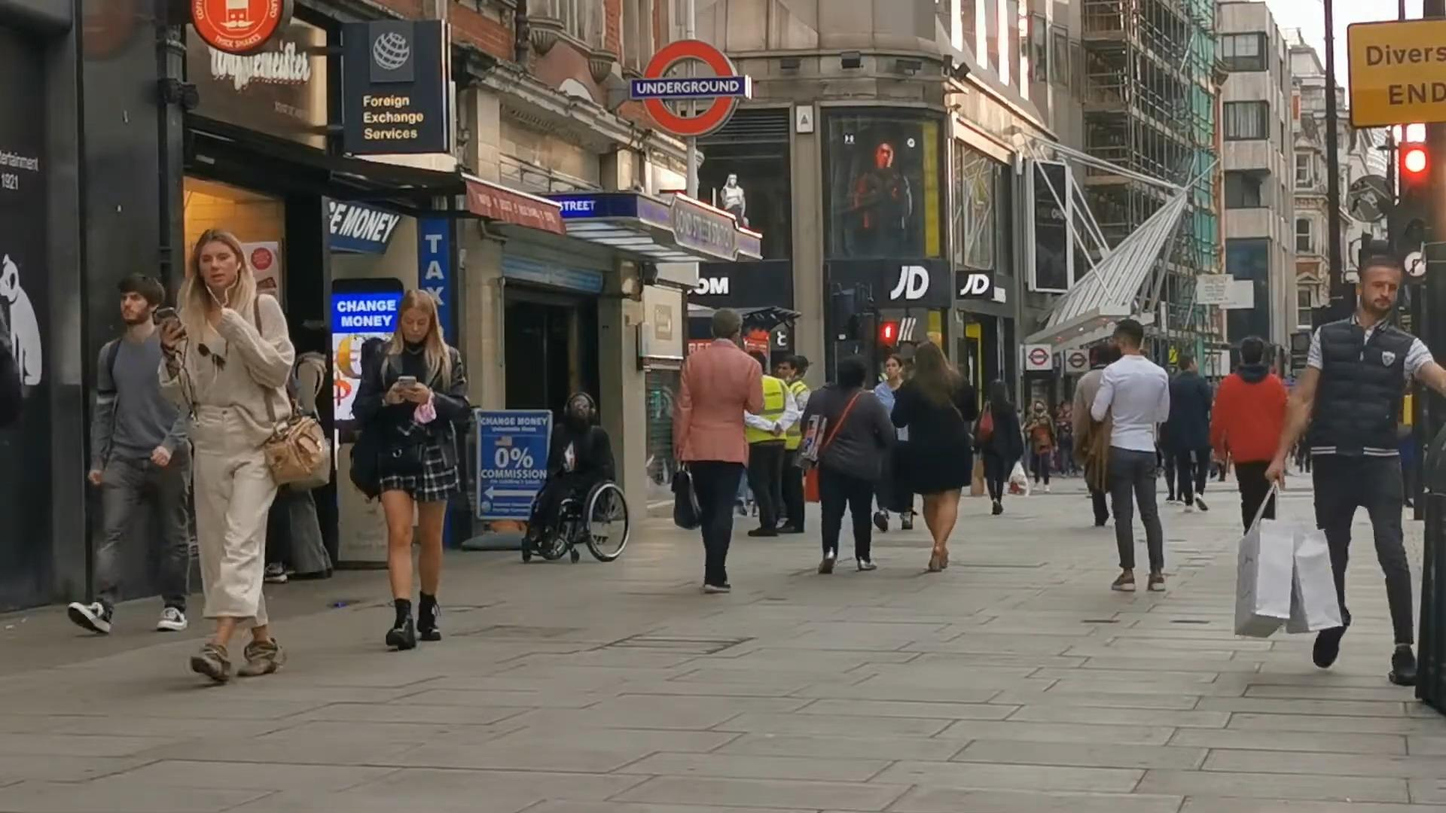no-helmet: (182, 227, 256, 294), (1356, 256, 1402, 316), (118, 272, 166, 329), (398, 289, 443, 342), (1109, 318, 1144, 362), (915, 341, 951, 375), (711, 308, 743, 346), (837, 353, 866, 389), (777, 354, 802, 385), (1239, 336, 1265, 364), (885, 354, 903, 380), (1179, 354, 1199, 373)
